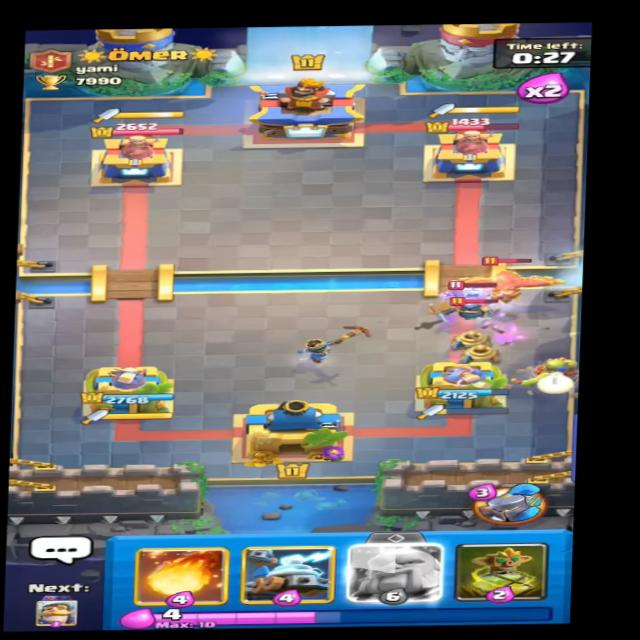Minipekka: (448, 293, 499, 320)
Monk: (441, 275, 505, 306)
Pheonix: (448, 251, 568, 306)
